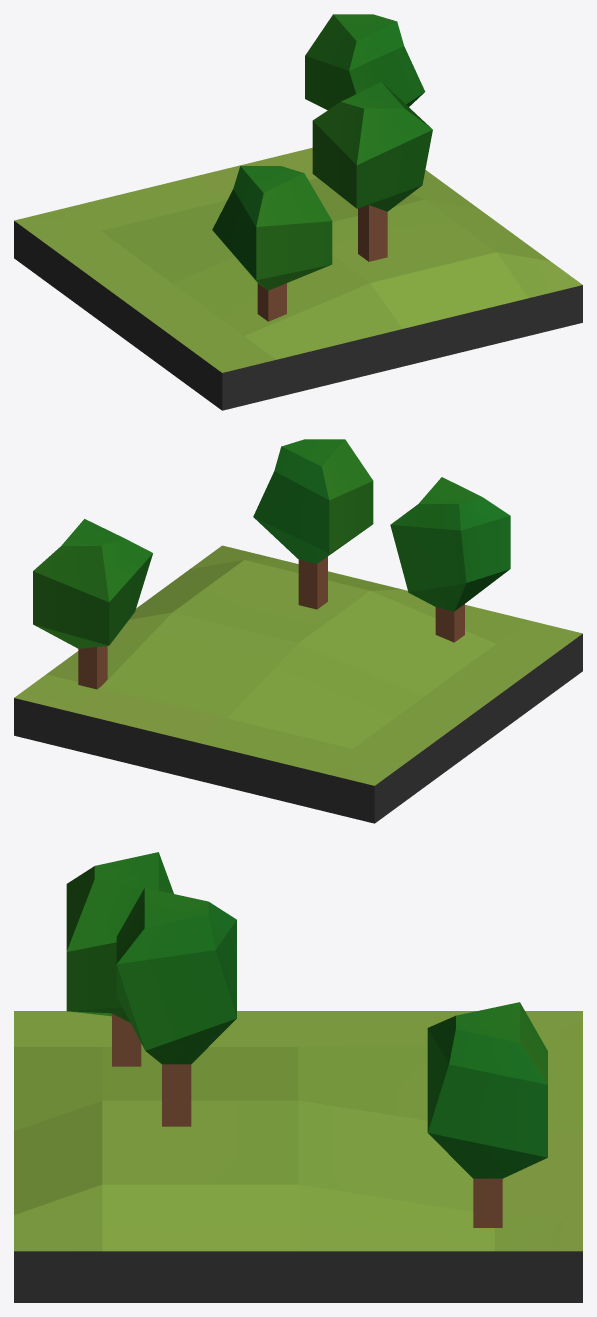
File: trees_4.fbx
3 renders of one model, top to bottom at view 1: azimuth 30°, elevation 25°; view 2: azimuth 150°, elevation 25°; view 3: azimuth 270°, elevation 25°, orthographic. The views are drawn at different scales.
Parts seen in each view (by area): view 1: block; view 2: block; view 3: block.
Boxes of the visible parts, x1,y1,x2,y2 form: block: (14, 14, 582, 410); block: (14, 439, 582, 823); block: (14, 852, 582, 1302).
Size of the model in its own units: 200 by 200 by 117.
Materials: 1 (1 with a texture image).
